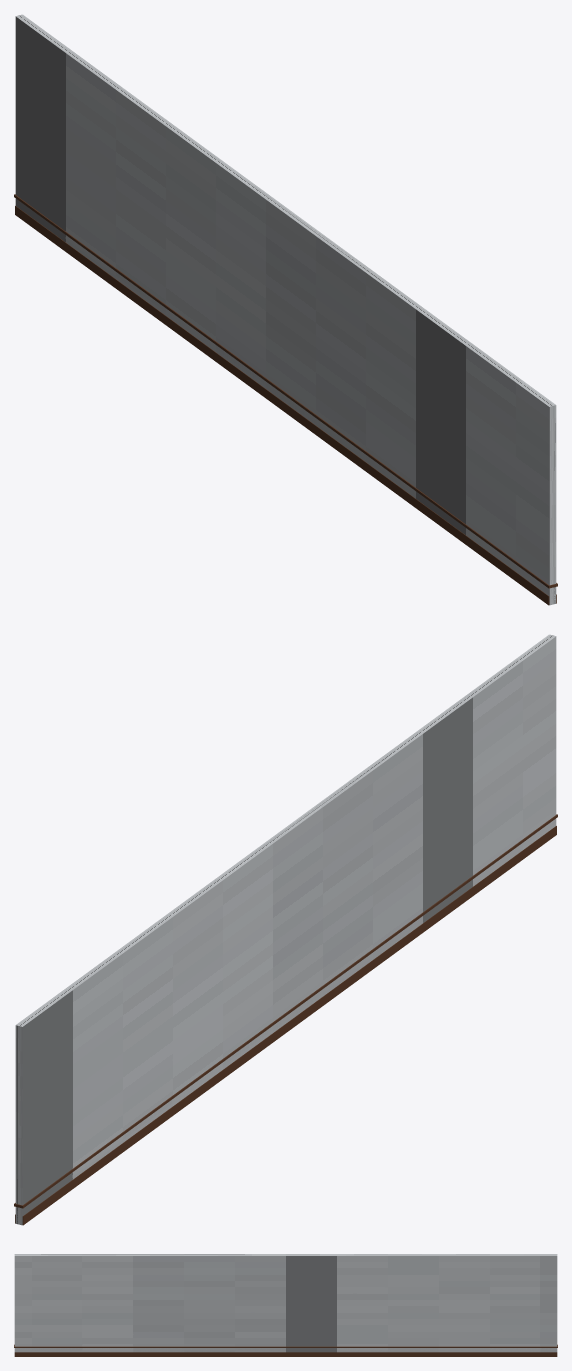
The model's file is high_div1.glb.
The picture shows the model from 3 angles, top to bottom: view 1: azimuth 30°, elevation 25°; view 2: azimuth 150°, elevation 25°; view 3: azimuth 270°, elevation 25°; orthographic projection. The views are drawn at different scales.
Parts seen in each view (by area): view 1: Box1, Box2, Box4, Box3; view 2: Box1, Box2, Box4, Box3; view 3: Box1, Box2, Box4, Box3.
Boxes of the visible parts, x1,y1,x2,y2 form: Box1: (15,14,556,605); Box2: (15,206,556,605); Box4: (14,194,557,588); Box3: (18,204,556,604); Box1: (15,634,556,1225); Box2: (15,826,556,1225); Box4: (14,814,557,1208); Box3: (15,822,554,1224); Box1: (14,1254,557,1352); Box2: (14,1352,557,1356); Box4: (14,1344,557,1347); Box3: (15,1348,556,1352).
Bounding box in the file's own units: 0.19 × 3.97 × 19.39.
Materials: 2 (1 with a texture image).
